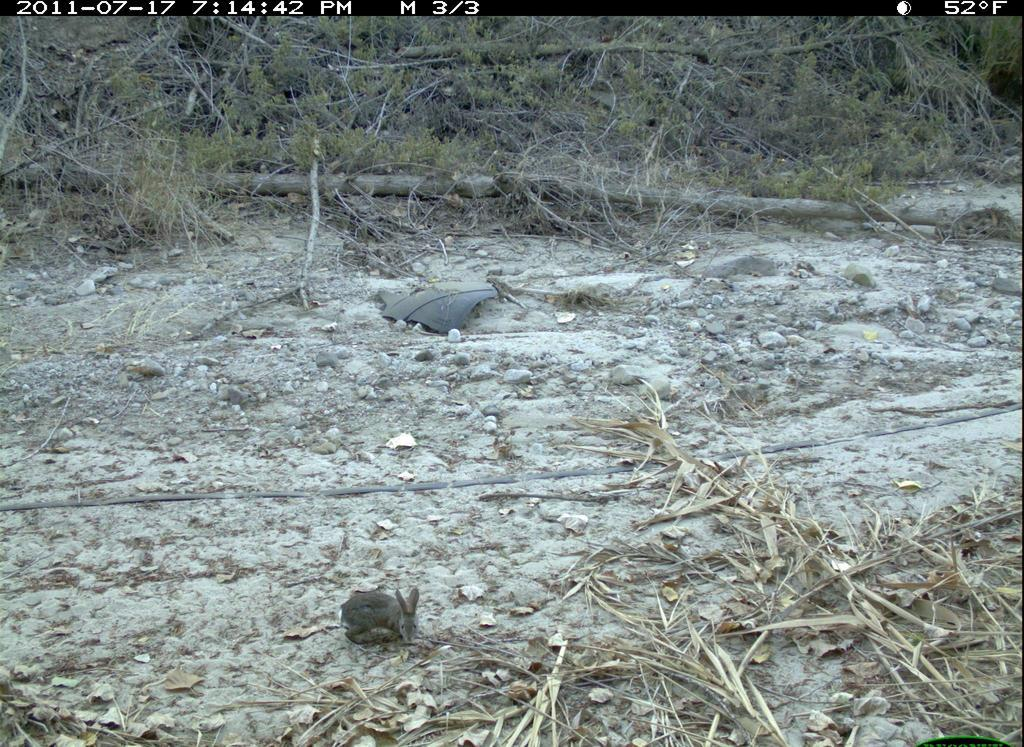rabbit: (332, 583, 428, 655)
